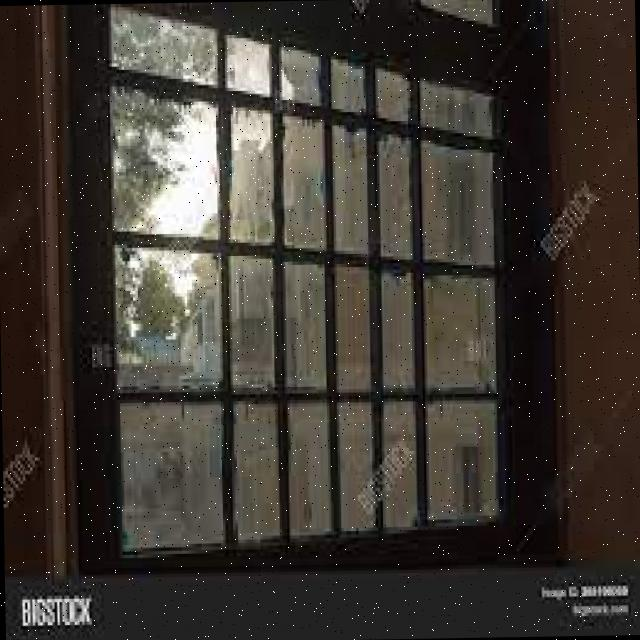Window: (64, 0, 526, 570)
